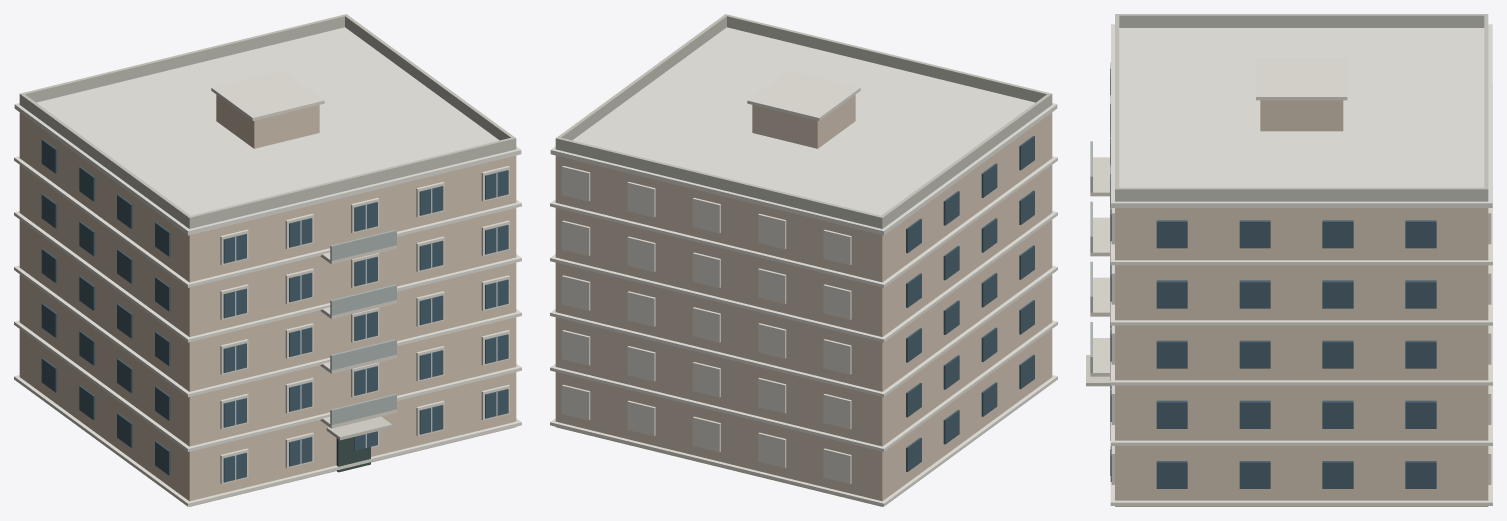
The picture shows the model from 3 angles, left to right: view 1: azimuth 30°, elevation 25°; view 2: azimuth 150°, elevation 25°; view 3: azimuth 270°, elevation 25°; orthographic projection. The views are drawn at different scales.
Bounding box in the file's own units: 20.44 × 18.18 × 19.62.
